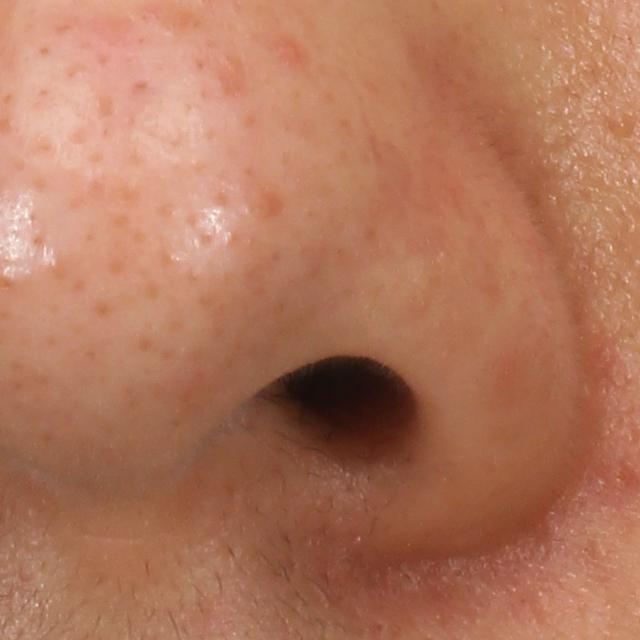comedo: (608, 110, 635, 138)
papule: (267, 33, 307, 66)
